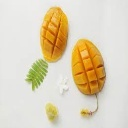mango: (71, 39, 106, 95)
